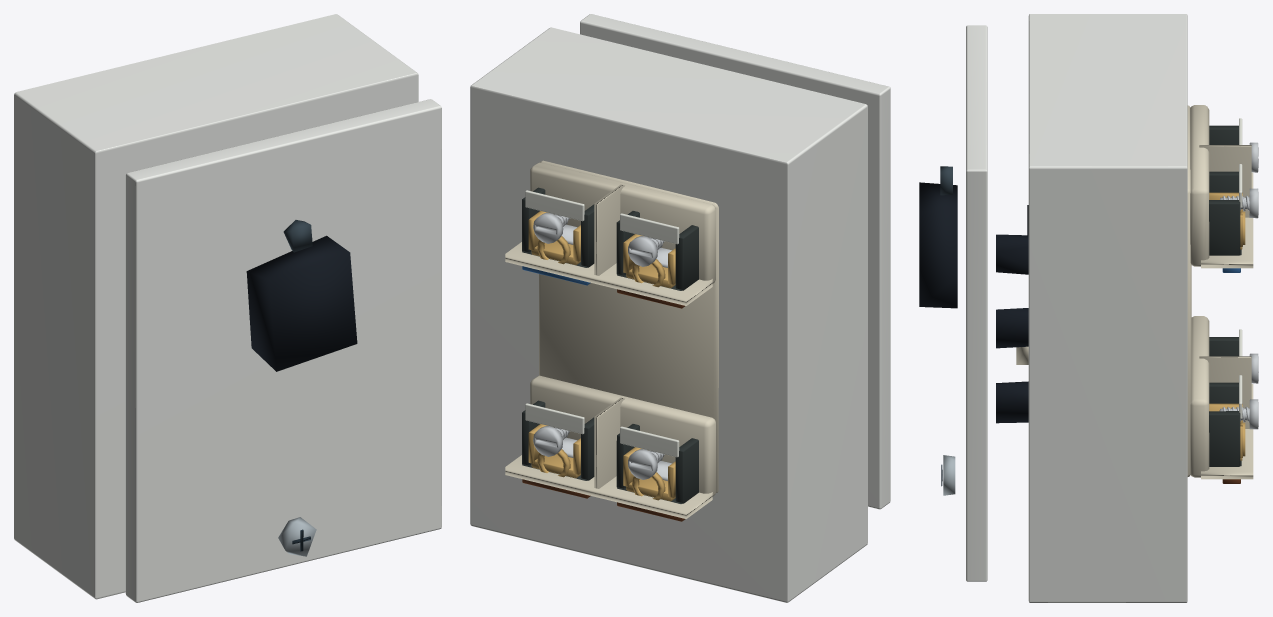
The model's file is sensor_mode_photocell.low.glb.
The picture shows the model from 3 angles, left to right: view 1: azimuth 30°, elevation 25°; view 2: azimuth 150°, elevation 25°; view 3: azimuth 270°, elevation 25°; orthographic projection. The views are drawn at different scales.
Parts seen in each view (by area): view 1: part:cover, part:body, part:sensing, part:body.001; view 2: part:body, part:terminals · Original 5a609f27, part:cover, detail:terminal-clamp:IN · Detail moulded engineering polyme, detail:terminal-clamp:L · Detail moulded engineering polymer, detail:terminal-clamp:N · Detail machined brass, detail:terminal-clamp:OUT · Detail moulded engineering polym, detail:terminal-clamp:OUT · Detail machined brass, detail:terminal-clamp:N · Detail moulded engineering polymer, detail:terminal-clamp:IN · Detail machined brass, detail:terminal-clamp:L · Detail machined brass, Moulded terminal legend pad.001 (+7 smaller); view 3: part:body, part:cover, part:terminals · Original 5a609f27, part:sensing, part:electronics · Original 3ff2d46d, detail:terminal-clamp:N · Detail moulded engineering polymer, detail:terminal-clamp:OUT · Detail moulded engineering polym, detail:terminal-clamp:IN · Detail moulded engineering polyme, detail:terminal-clamp:L · Detail moulded engineering polymer, detail:terminal-clamp:OUT · Detail zinc plated fixing, detail:terminal-clamp:N · Detail zinc plated fixing.
Part boxes in pixels (<box>): part:cover: <box>125,99,441,602</box>; part:body: <box>14,14,418,599</box>; part:sensing: <box>246,235,357,371</box>; part:body.001: <box>283,220,312,252</box>; part:body: <box>470,27,867,602</box>; part:terminals · Original 5a609f27: <box>505,160,718,518</box>; part:cover: <box>580,14,890,509</box>; detail:terminal-clamp:IN · Detail moulded engineering polyme: <box>616,424,698,503</box>; detail:terminal-clamp:L · Detail moulded engineering polymer: <box>616,211,698,290</box>; detail:terminal-clamp:N · Detail machined brass: <box>528,211,580,265</box>; detail:terminal-clamp:OUT · Detail moulded engineering polym: <box>522,400,594,480</box>; detail:terminal-clamp:OUT · Detail machined brass: <box>528,424,580,478</box>; detail:terminal-clamp:N · Detail moulded engineering polymer: <box>522,187,594,267</box>; detail:terminal-clamp:IN · Detail machined brass: <box>623,447,675,501</box>; detail:terminal-clamp:L · Detail machined brass: <box>623,234,675,288</box>; Moulded terminal legend pad.001: <box>525,190,584,221</box>; part:body: <box>1028,14,1187,602</box>; part:cover: <box>943,25,987,581</box>; part:terminals · Original 5a609f27: <box>1187,105,1253,479</box>; part:sensing: <box>919,182,957,308</box>; part:electronics · Original 3ff2d46d: <box>996,205,1028,423</box>; detail:terminal-clamp:N · Detail moulded engineering polymer: <box>1209,171,1241,255</box>; detail:terminal-clamp:OUT · Detail moulded engineering polym: <box>1209,382,1241,466</box>; detail:terminal-clamp:IN · Detail moulded engineering polyme: <box>1209,337,1238,356</box>; detail:terminal-clamp:L · Detail moulded engineering polymer: <box>1209,125,1238,144</box>; detail:terminal-clamp:OUT · Detail zinc plated fixing: <box>1219,399,1258,429</box>; detail:terminal-clamp:N · Detail zinc plated fixing: <box>1220,188,1258,218</box>.
Size of the model in its own units: 0.6262 by 0.8286 by 0.5833.
